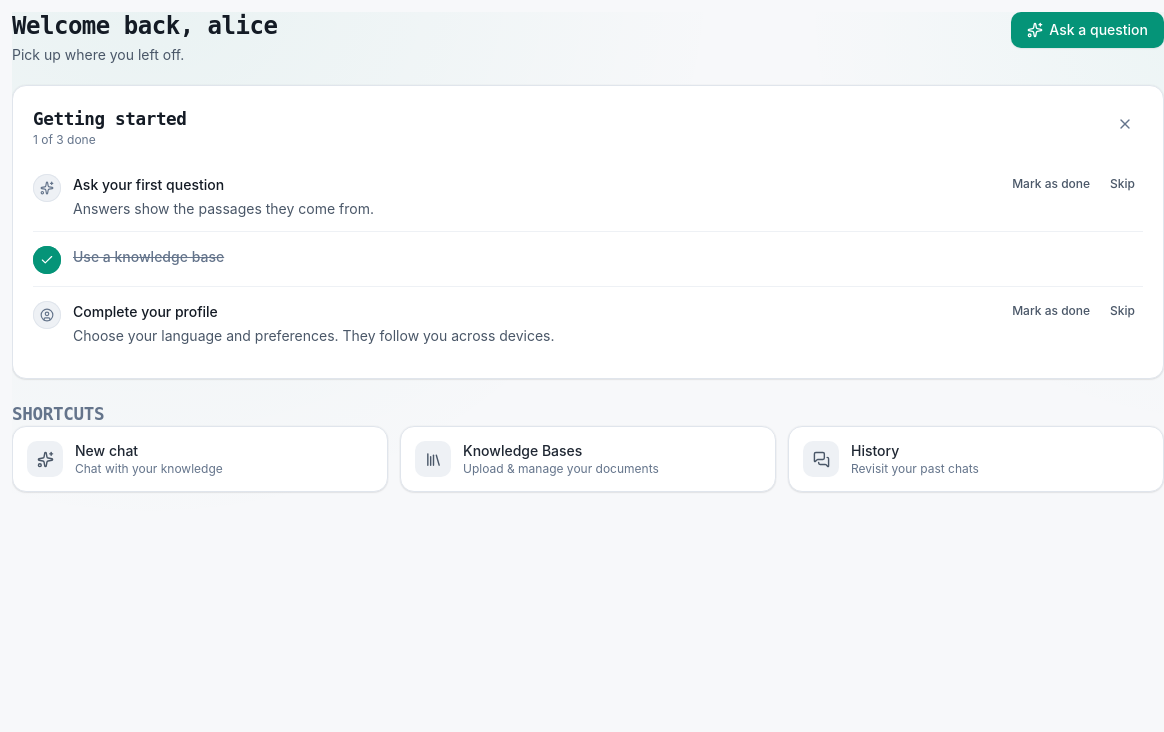
Getting started state › says so when a change can't be saved
Click the button with aria-label "Skip: Complete your profile" at (1123, 311), box [1102,299,1143,323]
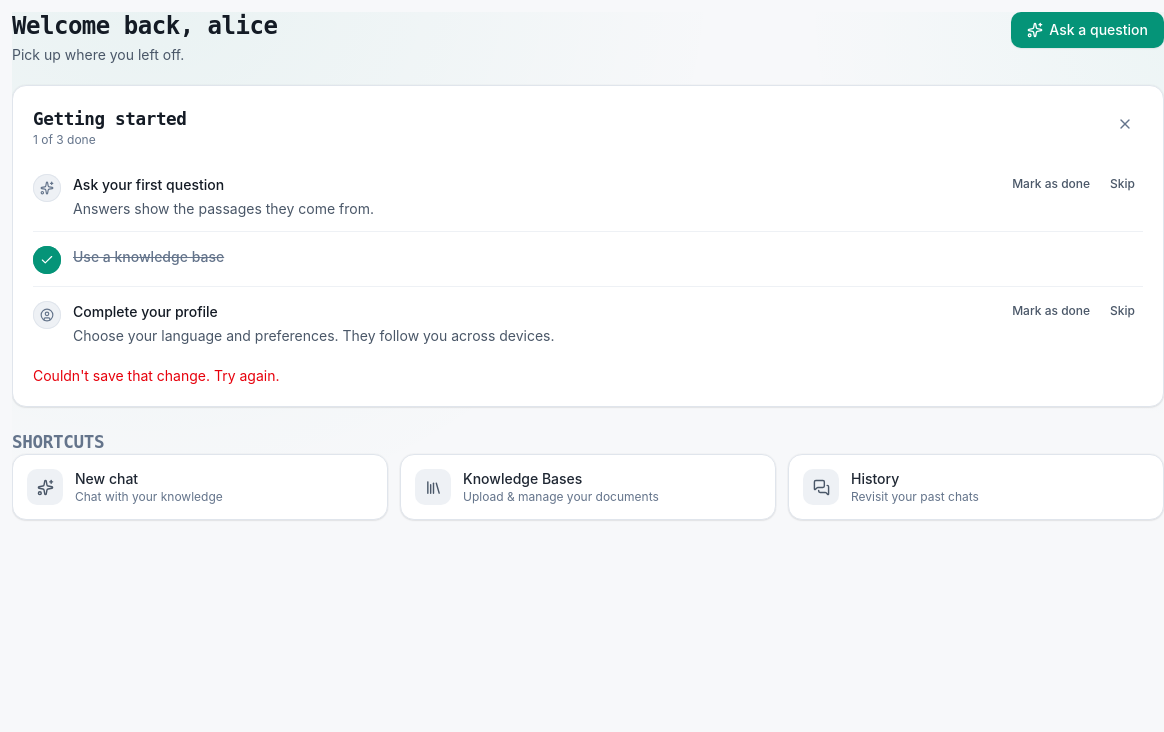
Check: the link "Complete your profile" is shown, box [73,303,218,320]
Check: the message shows "Couldn't save that change", box [33,367,280,384]
